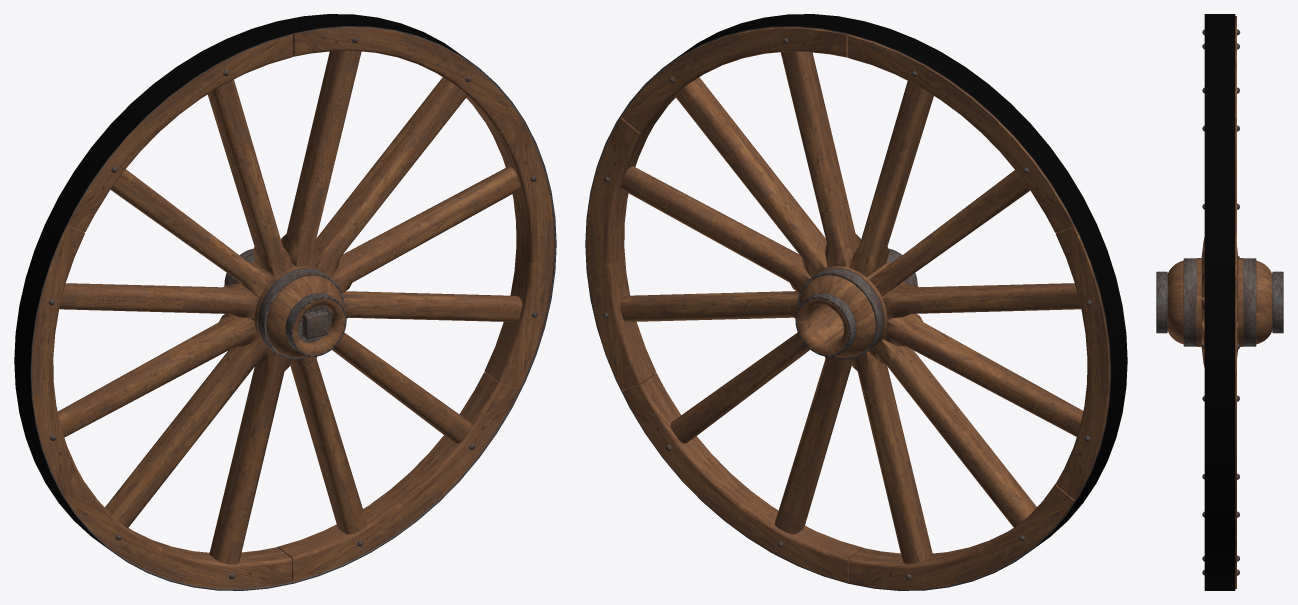
File: wagon_wheel.glb
The picture shows the model from 3 angles, left to right: view 1: azimuth 30°, elevation 25°; view 2: azimuth 150°, elevation 25°; view 3: azimuth 270°, elevation 25°; orthographic projection. The views are drawn at different scales.
Parts seen in each view (by area): view 1: Plane.003_4, Circle.001_6, Circle_7, Plane_1, Plane.001_2, Plane.002_3, Cube_9; view 2: Plane.003_4, Circle.001_6, Circle_7, Plane_1, Plane.001_2, Plane.002_3; view 3: Circle_7, Plane_1, Plane.001_2, Circle.001_6, Plane.002_3, Plane.003_4.
Boxes of the visible parts, bbox=[...] form: Plane.003_4: bbox=[58, 50, 522, 564]; Circle.001_6: bbox=[31, 27, 554, 588]; Circle_7: bbox=[14, 14, 556, 590]; Plane_1: bbox=[228, 253, 344, 357]; Plane.001_2: bbox=[229, 253, 344, 359]; Plane.002_3: bbox=[224, 248, 346, 356]; Cube_9: bbox=[302, 309, 328, 339]; Plane.003_4: bbox=[620, 51, 1083, 563]; Circle.001_6: bbox=[586, 27, 1110, 589]; Circle_7: bbox=[585, 14, 1127, 590]; Plane_1: bbox=[797, 253, 913, 357]; Plane.001_2: bbox=[797, 252, 913, 359]; Plane.002_3: bbox=[795, 248, 917, 356]; Circle_7: bbox=[1204, 14, 1235, 590]; Plane_1: bbox=[1167, 258, 1272, 346]; Plane.001_2: bbox=[1183, 258, 1256, 346]; Circle.001_6: bbox=[1202, 16, 1240, 588]; Plane.002_3: bbox=[1156, 271, 1283, 333]; Plane.003_4: bbox=[1201, 237, 1238, 367].
Size of the model in its own units: 12.96 by 12.96 by 2.86.
3 materials, 3 textured.
